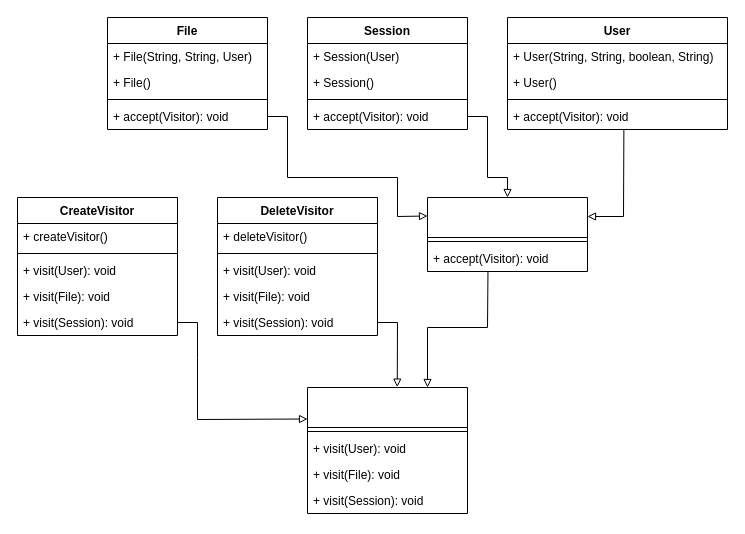
This 745x534 diagram has some shape labels left out. The shapes that lost their labels are listed below. From the top down, each one's box as (x1, y1, x2, y2) in pixels, then its label:
(426, 196, 588, 272): <<interface>> Visitable
(306, 386, 468, 514): <<interface>> Visitor
